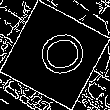O_W: (24, 27, 86, 83)
